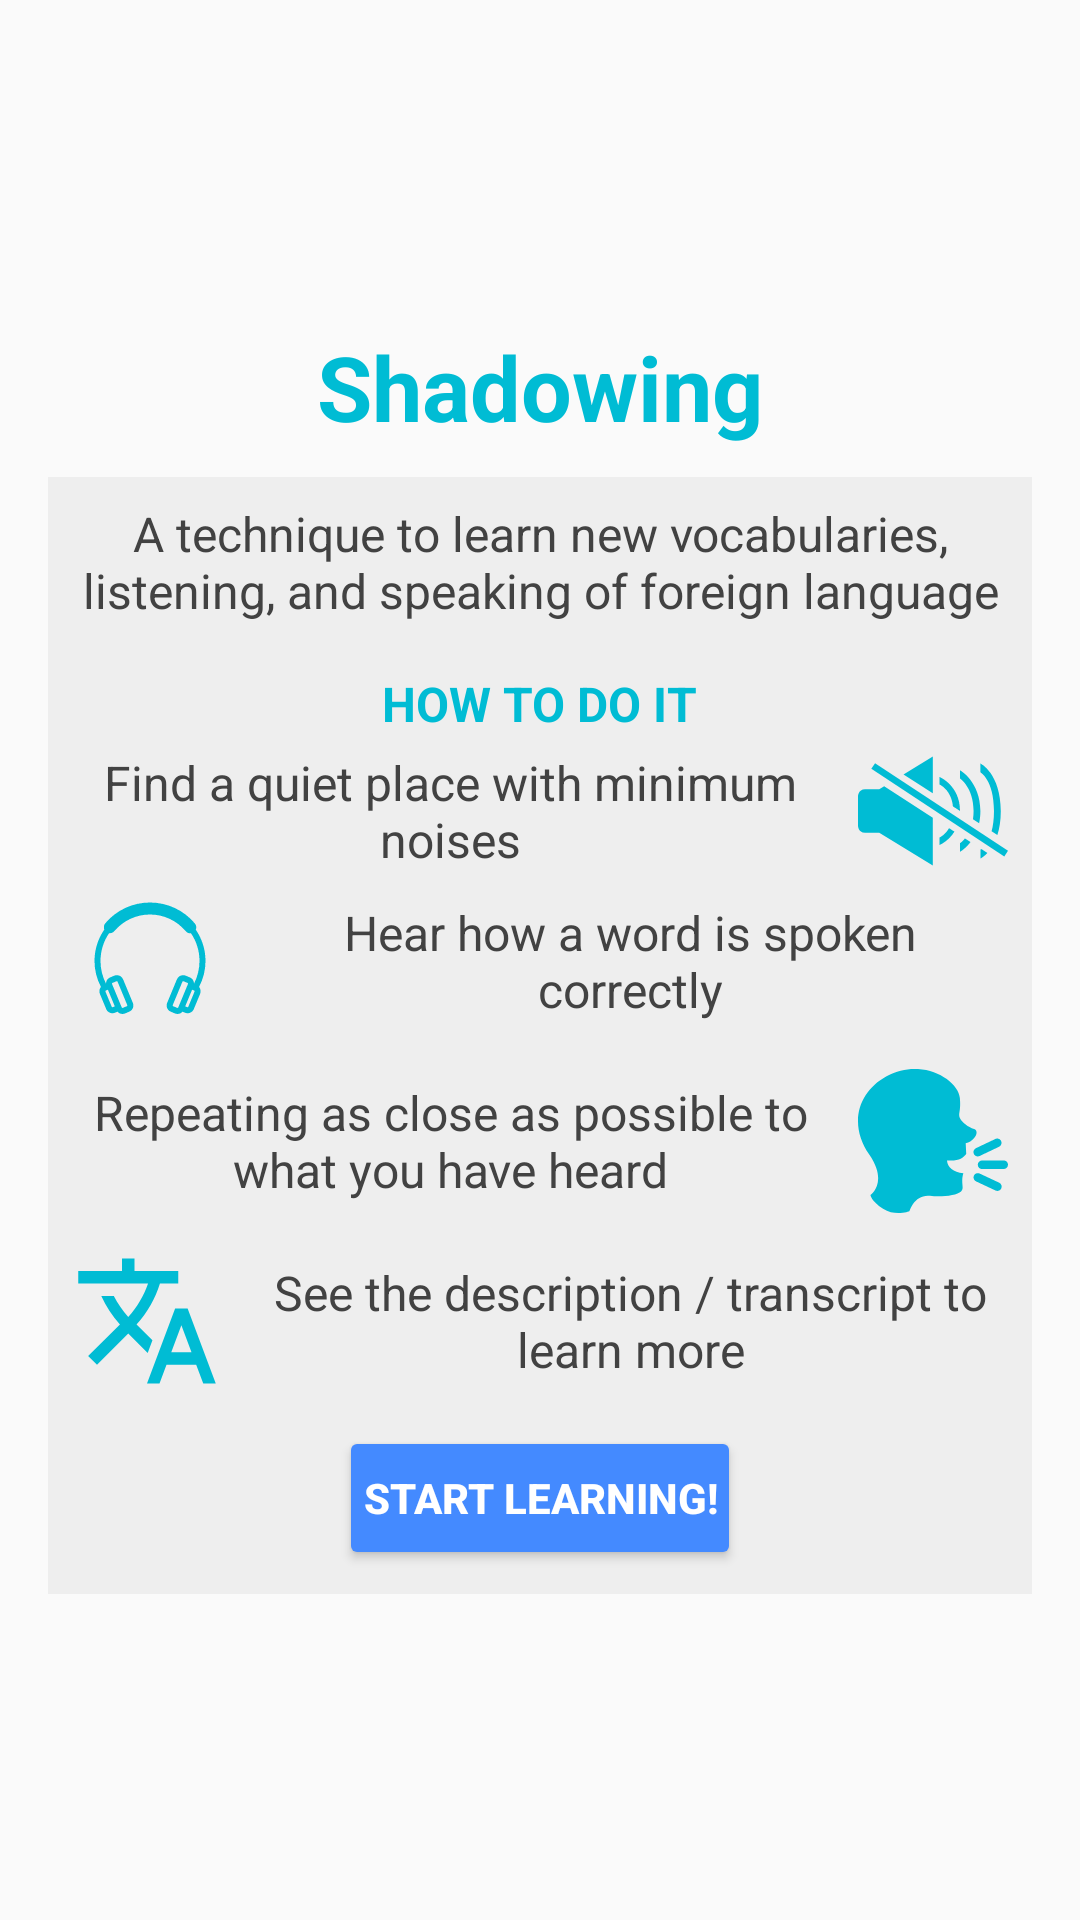

Where to tap for icons on this 1080px×1920px app screen, as (x,y):
mute: (933,811)
speak: (933,1141)
